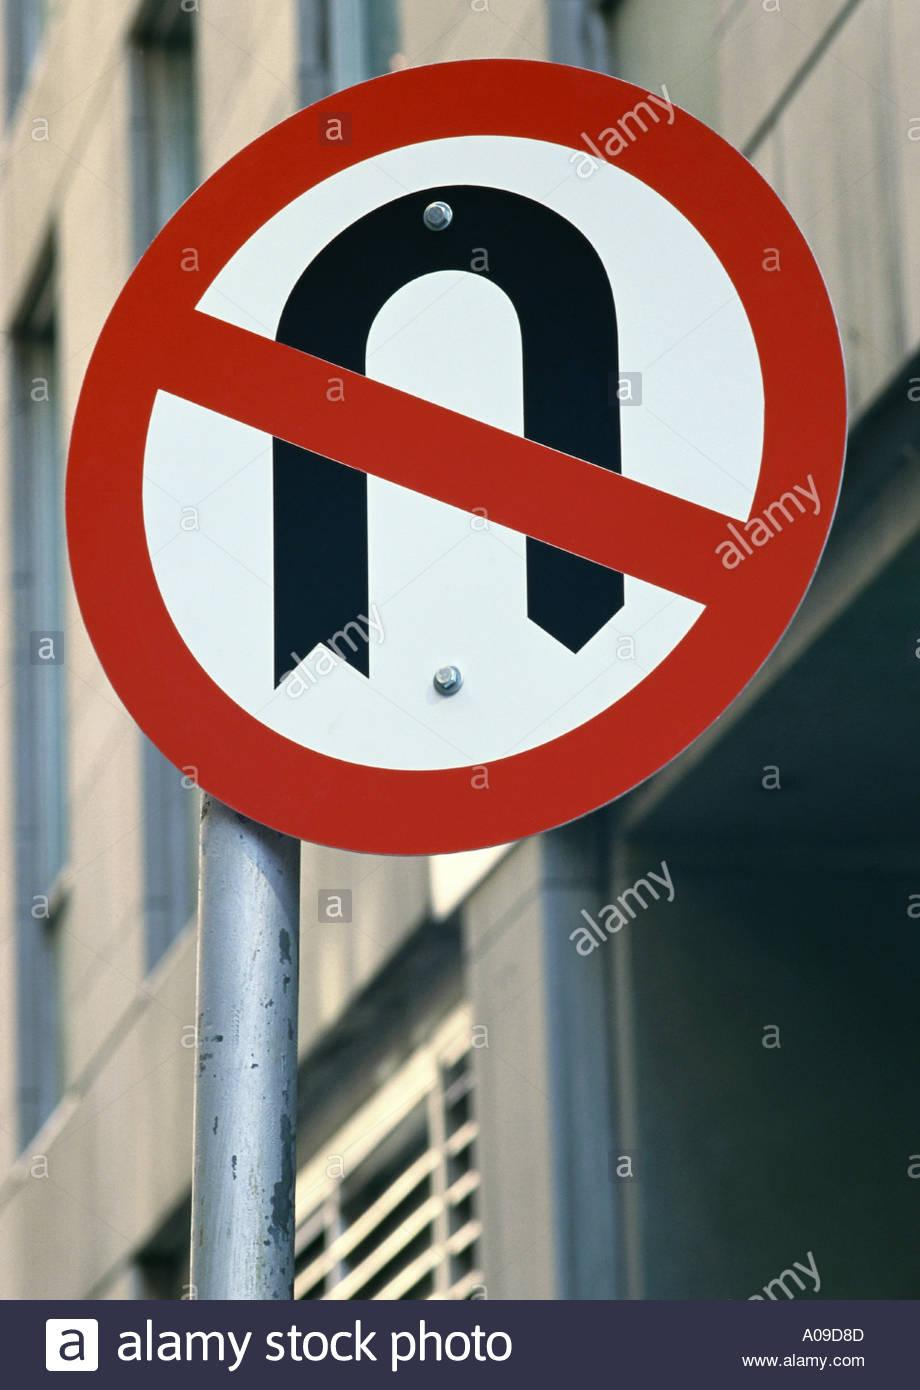no_u_turn: (65, 57, 845, 856)
